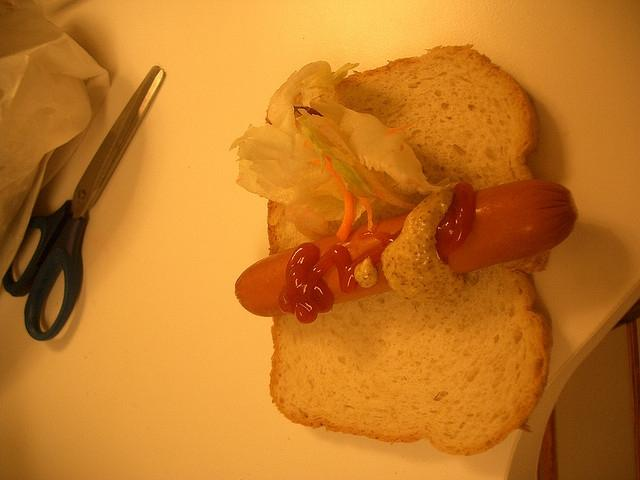carrot: (311, 156, 354, 242), (354, 196, 374, 230), (386, 117, 424, 134)
lettuce: (310, 93, 461, 196), (230, 125, 342, 238), (296, 108, 376, 198), (267, 61, 334, 140)
